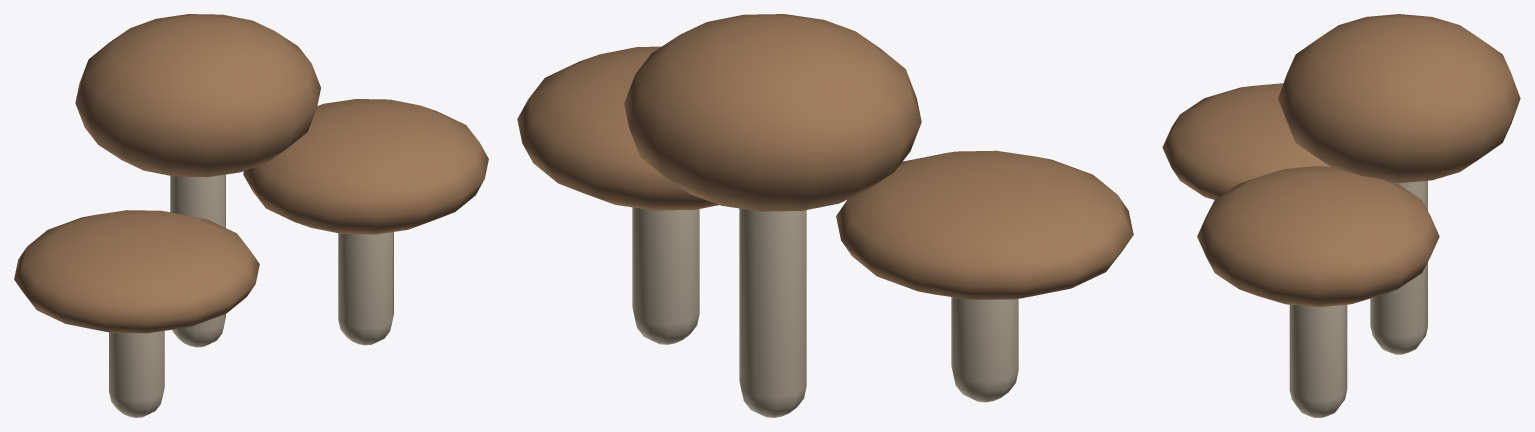
The model's file is org_decomposer.glb.
The picture shows the model from 3 angles, left to right: view 1: azimuth 30°, elevation 25°; view 2: azimuth 150°, elevation 25°; view 3: azimuth 270°, elevation 25°; orthographic projection. The views are drawn at different scales.
Parts seen in each view (by area): view 1: Foliage, Trunk; view 2: Foliage, Trunk; view 3: Foliage, Trunk.
Part boxes in pixels (box(x1,y1,x2,y2)): Foliage: box(14, 14, 488, 333); Trunk: box(109, 174, 393, 417); Foliage: box(517, 14, 1133, 300); Trunk: box(632, 207, 1018, 417); Foliage: box(1162, 14, 1520, 307); Trunk: box(1289, 180, 1427, 417).
Bounding box in the file's own units: 0.4623 × 0.3 × 0.3049.
